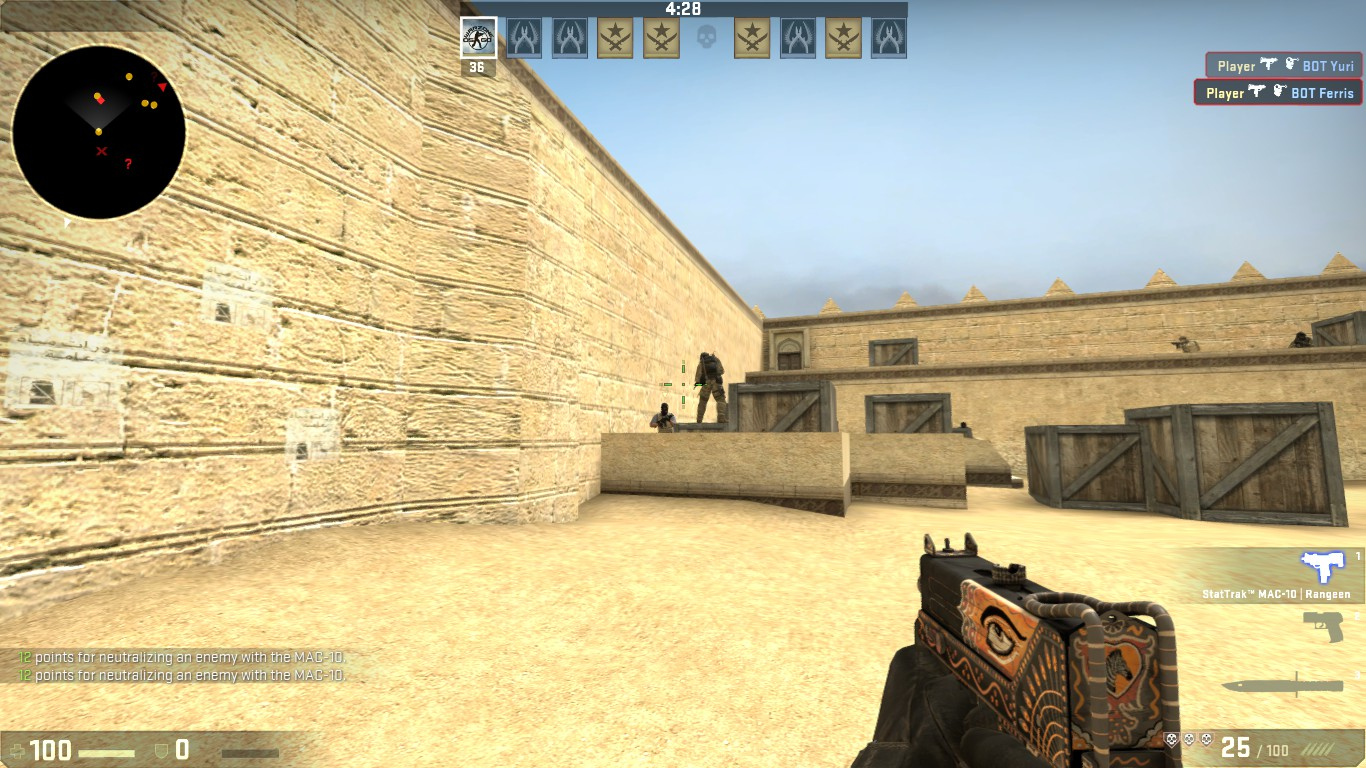c: (694, 351, 730, 424)
ch: (697, 350, 711, 362)
t: (651, 401, 676, 434)
th: (657, 401, 671, 417)
